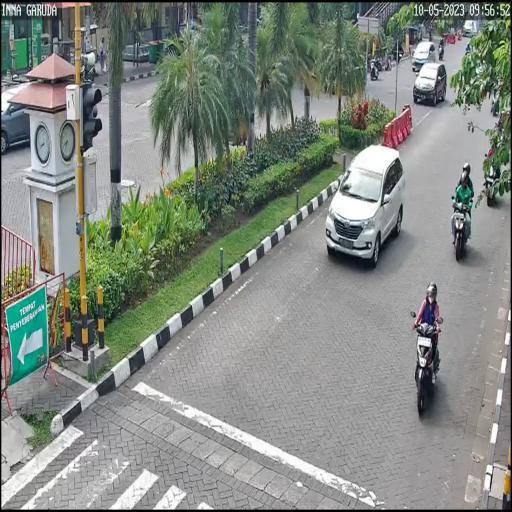mobil: (324, 144, 406, 269), (413, 62, 447, 106)
motor: (408, 308, 444, 423), (448, 187, 474, 265)
